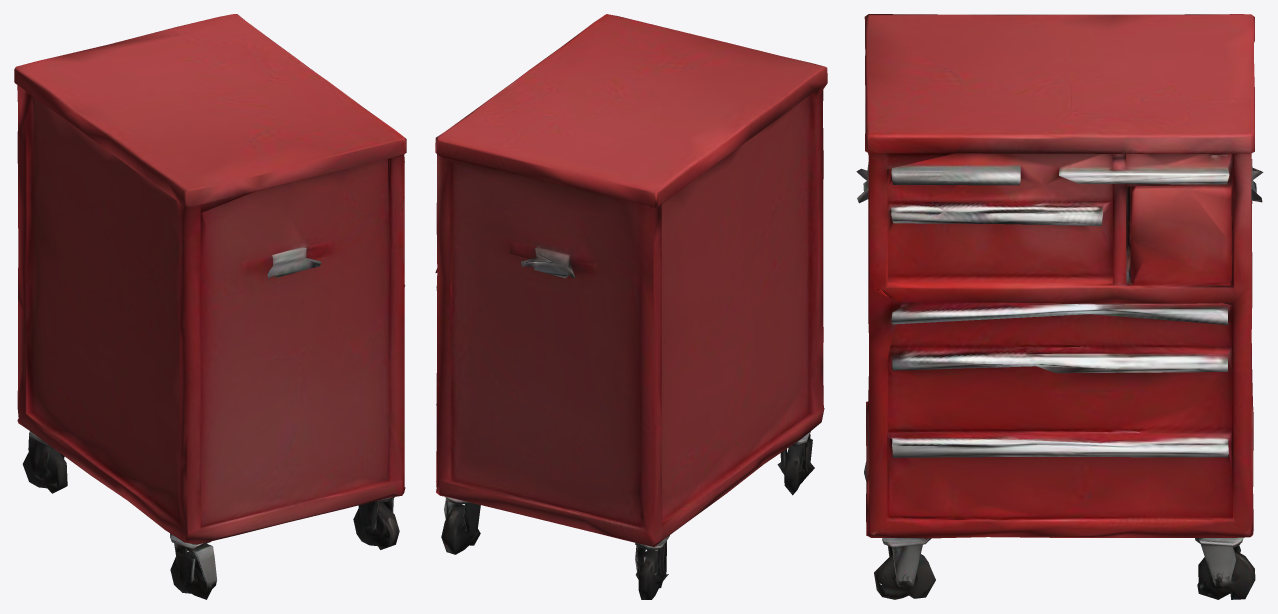
Rendered from gr_toolchest.glb.
3 views of the same model, side by side, from view 1: azimuth 30°, elevation 25°; view 2: azimuth 150°, elevation 25°; view 3: azimuth 270°, elevation 25° (orthographic). The views are drawn at different scales.
Visible parts, largest first — view 1: tripo_node_46ab19ab-8b05-49e9-9bdd-27dd31f2cc8e; view 2: tripo_node_46ab19ab-8b05-49e9-9bdd-27dd31f2cc8e; view 3: tripo_node_46ab19ab-8b05-49e9-9bdd-27dd31f2cc8e.
Boxes of the visible parts, bbox=[...] form: tripo_node_46ab19ab-8b05-49e9-9bdd-27dd31f2cc8e: bbox=[14, 14, 406, 599]; tripo_node_46ab19ab-8b05-49e9-9bdd-27dd31f2cc8e: bbox=[435, 14, 827, 599]; tripo_node_46ab19ab-8b05-49e9-9bdd-27dd31f2cc8e: bbox=[856, 14, 1263, 599].
Size of the model in its own units: 0.5798 by 1 by 0.7803.
Materials: 1 (1 with a texture image).
